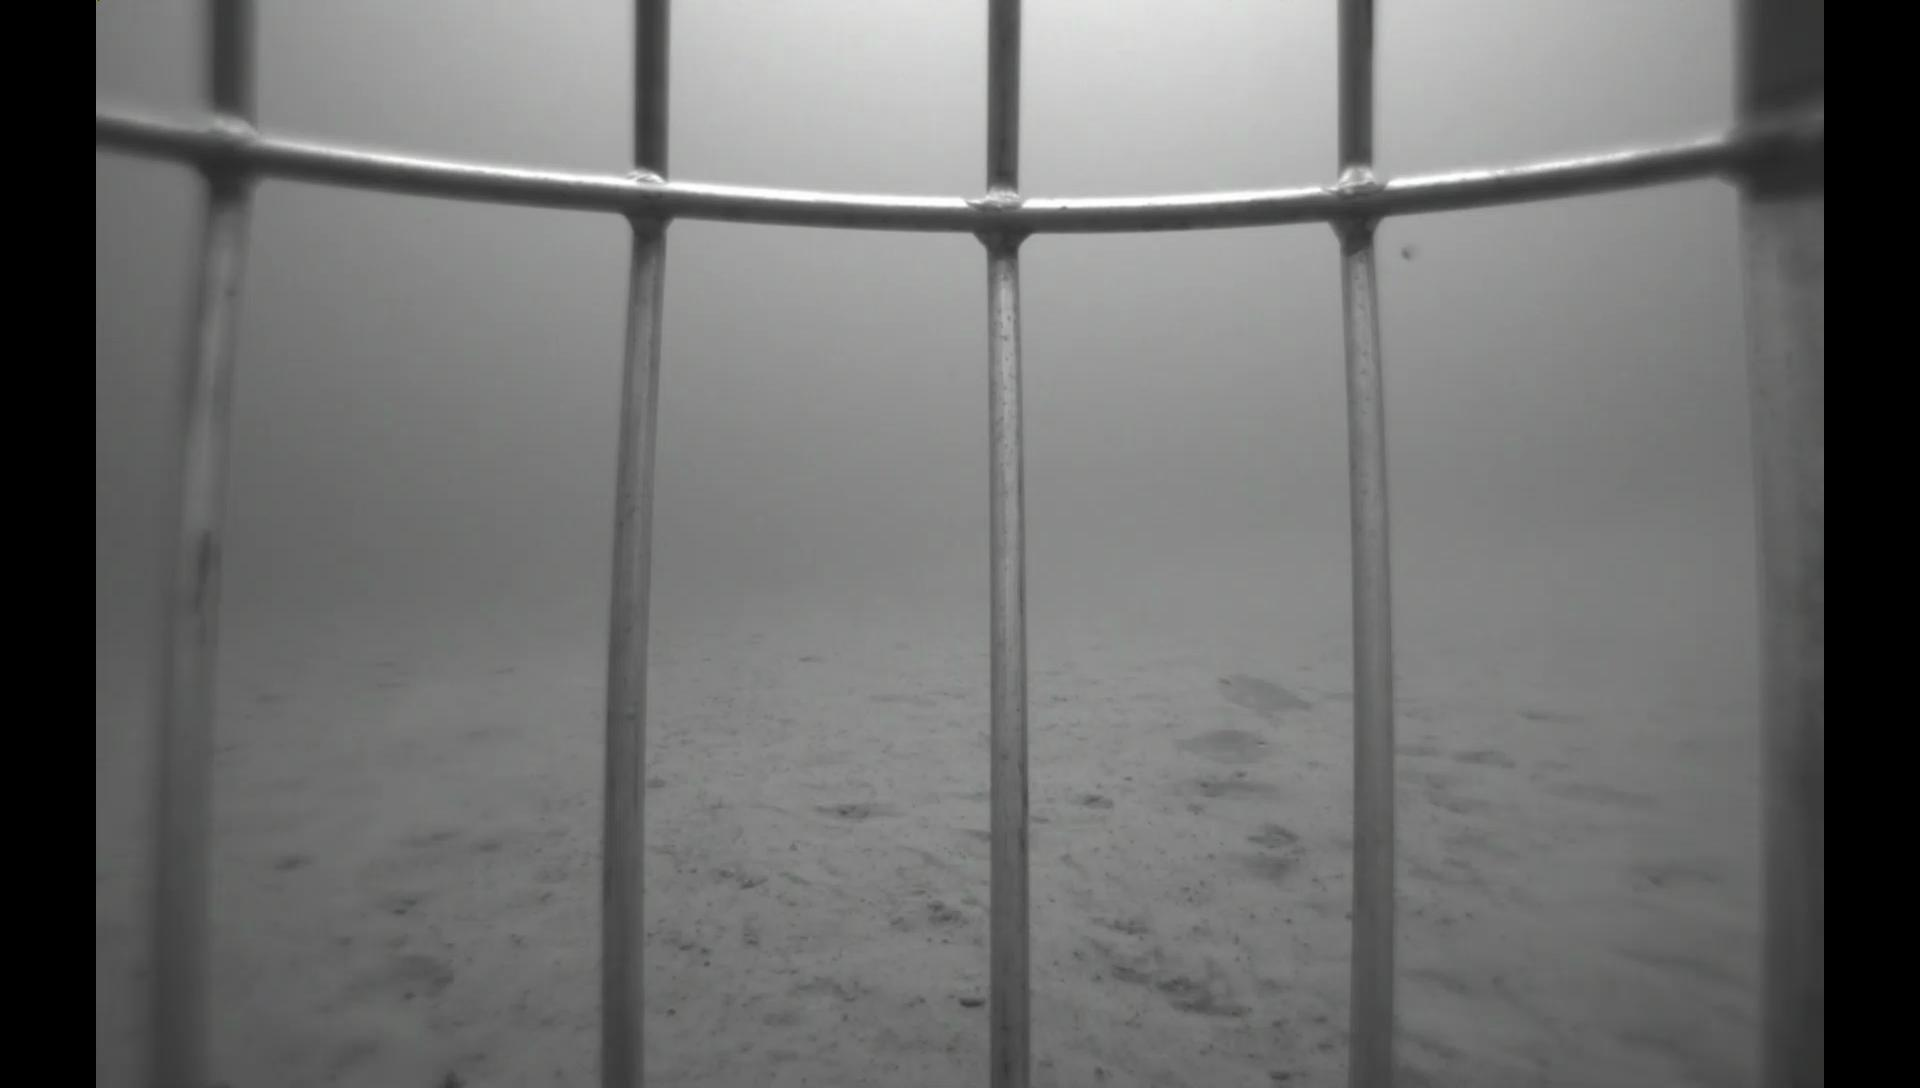PRISTIPOMOIDES-170151800: (1131, 713, 1288, 785), (1207, 662, 1346, 736)
